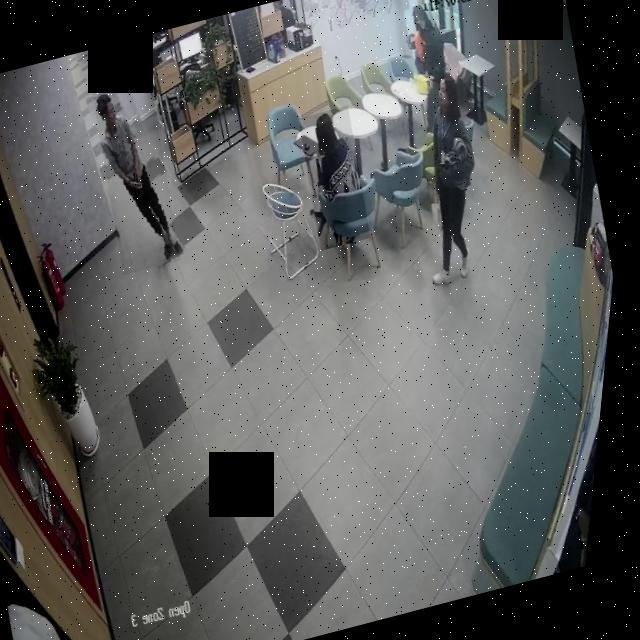person: (385, 73, 515, 288), (80, 76, 200, 275), (290, 105, 385, 250), (391, 0, 471, 129)
